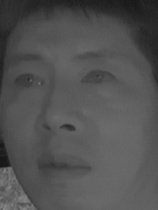eye: (78, 69, 120, 88), (11, 69, 48, 90)
mouth: (35, 146, 92, 186)
